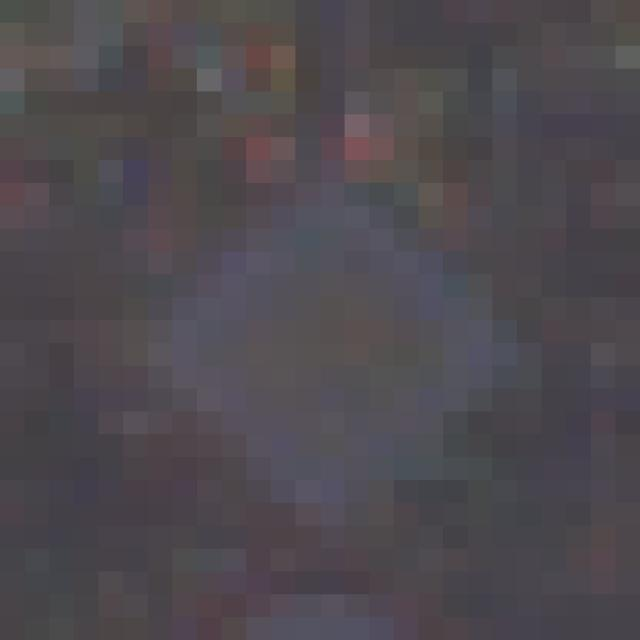Main Road: (124, 138, 518, 504)
